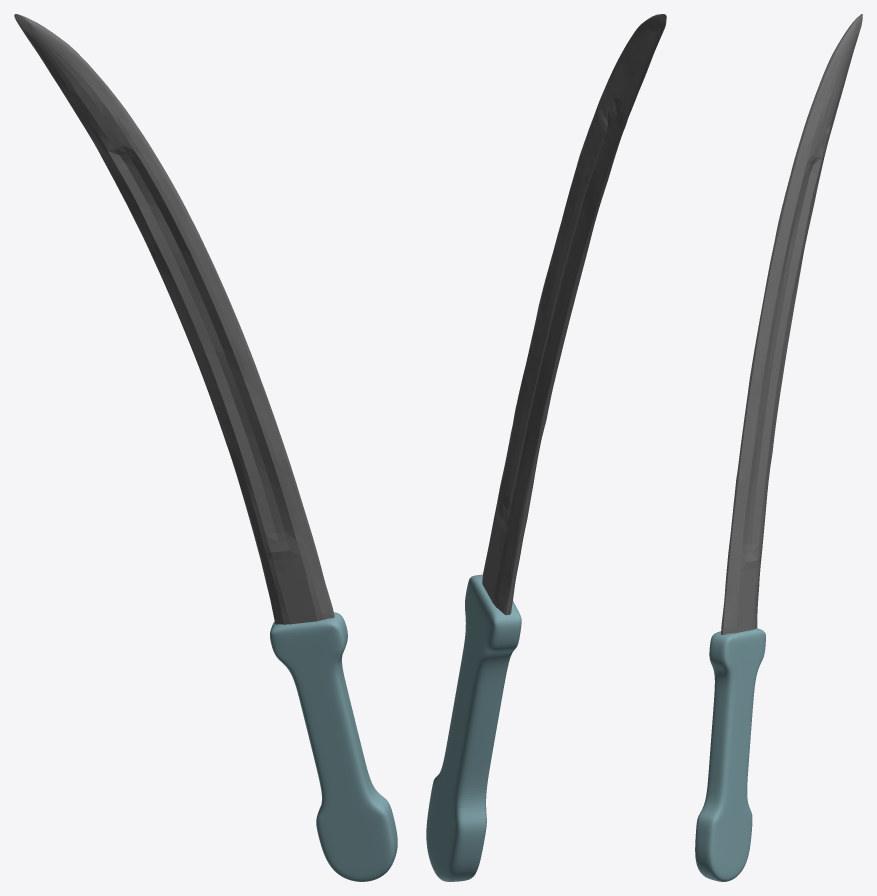
The model's file is COSSACK_WEAPON_5#8.glb.
The picture shows the model from 3 angles, left to right: view 1: azimuth 30°, elevation 25°; view 2: azimuth 150°, elevation 25°; view 3: azimuth 270°, elevation 25°; orthographic projection. The views are drawn at different scales.
Parts seen in each view (by area): view 1: LongKindjal1; view 2: LongKindjal1; view 3: LongKindjal1.
Boxes of the visible parts, <box> form: LongKindjal1: <box>14,14,397,881</box>; LongKindjal1: <box>426,14,666,881</box>; LongKindjal1: <box>695,14,862,881</box>.
Bounding box in the file's own units: 1.32 × 3.72 × 0.7509.
